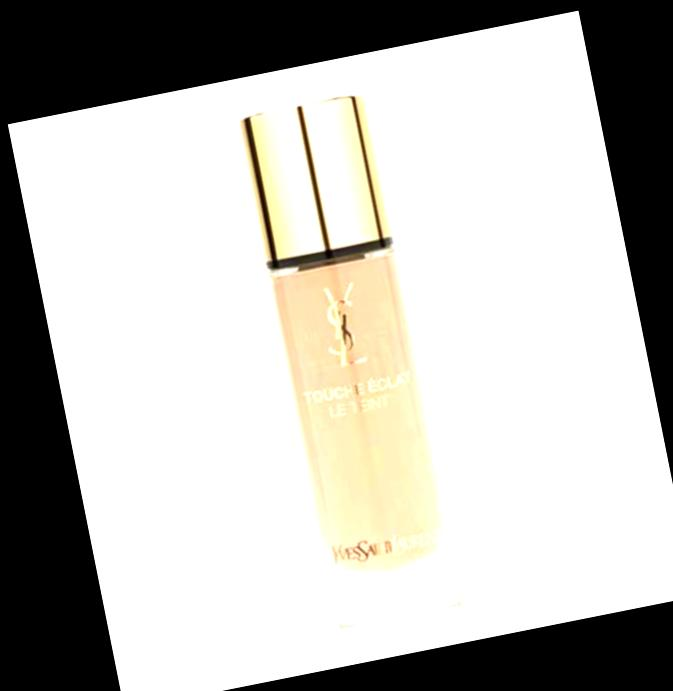cosmetic: (233, 87, 474, 642)
